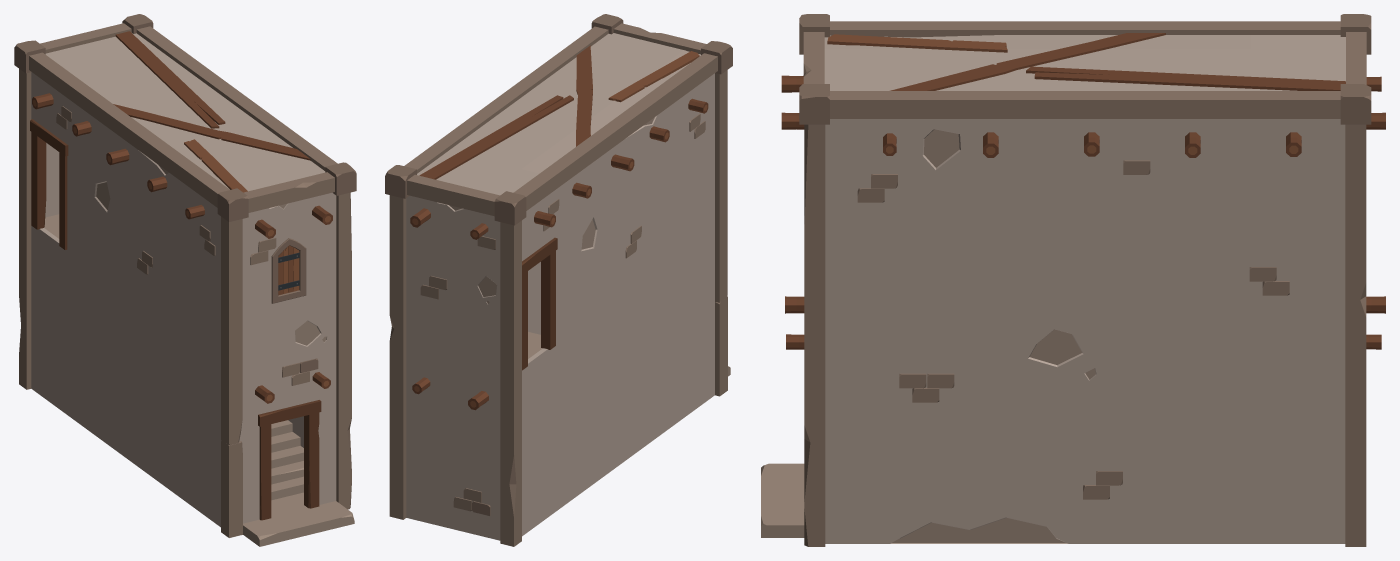
Rendered from House_06L.fbx.
The picture shows the model from 3 angles, left to right: view 1: azimuth 30°, elevation 25°; view 2: azimuth 150°, elevation 25°; view 3: azimuth 270°, elevation 25°; orthographic projection. The views are drawn at different scales.
Visible parts, largest first — view 1: House_06L; view 2: House_06L; view 3: House_06L.
Boxes of the visible parts, box(x1,y1,x2,y2) form: House_06L: box(14, 14, 356, 546); House_06L: box(385, 14, 732, 546); House_06L: box(761, 14, 1385, 546).
Size of the model in its own units: 326 by 716 by 898.
